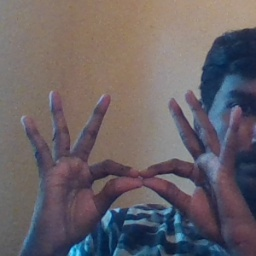B: (72, 116, 212, 226)
